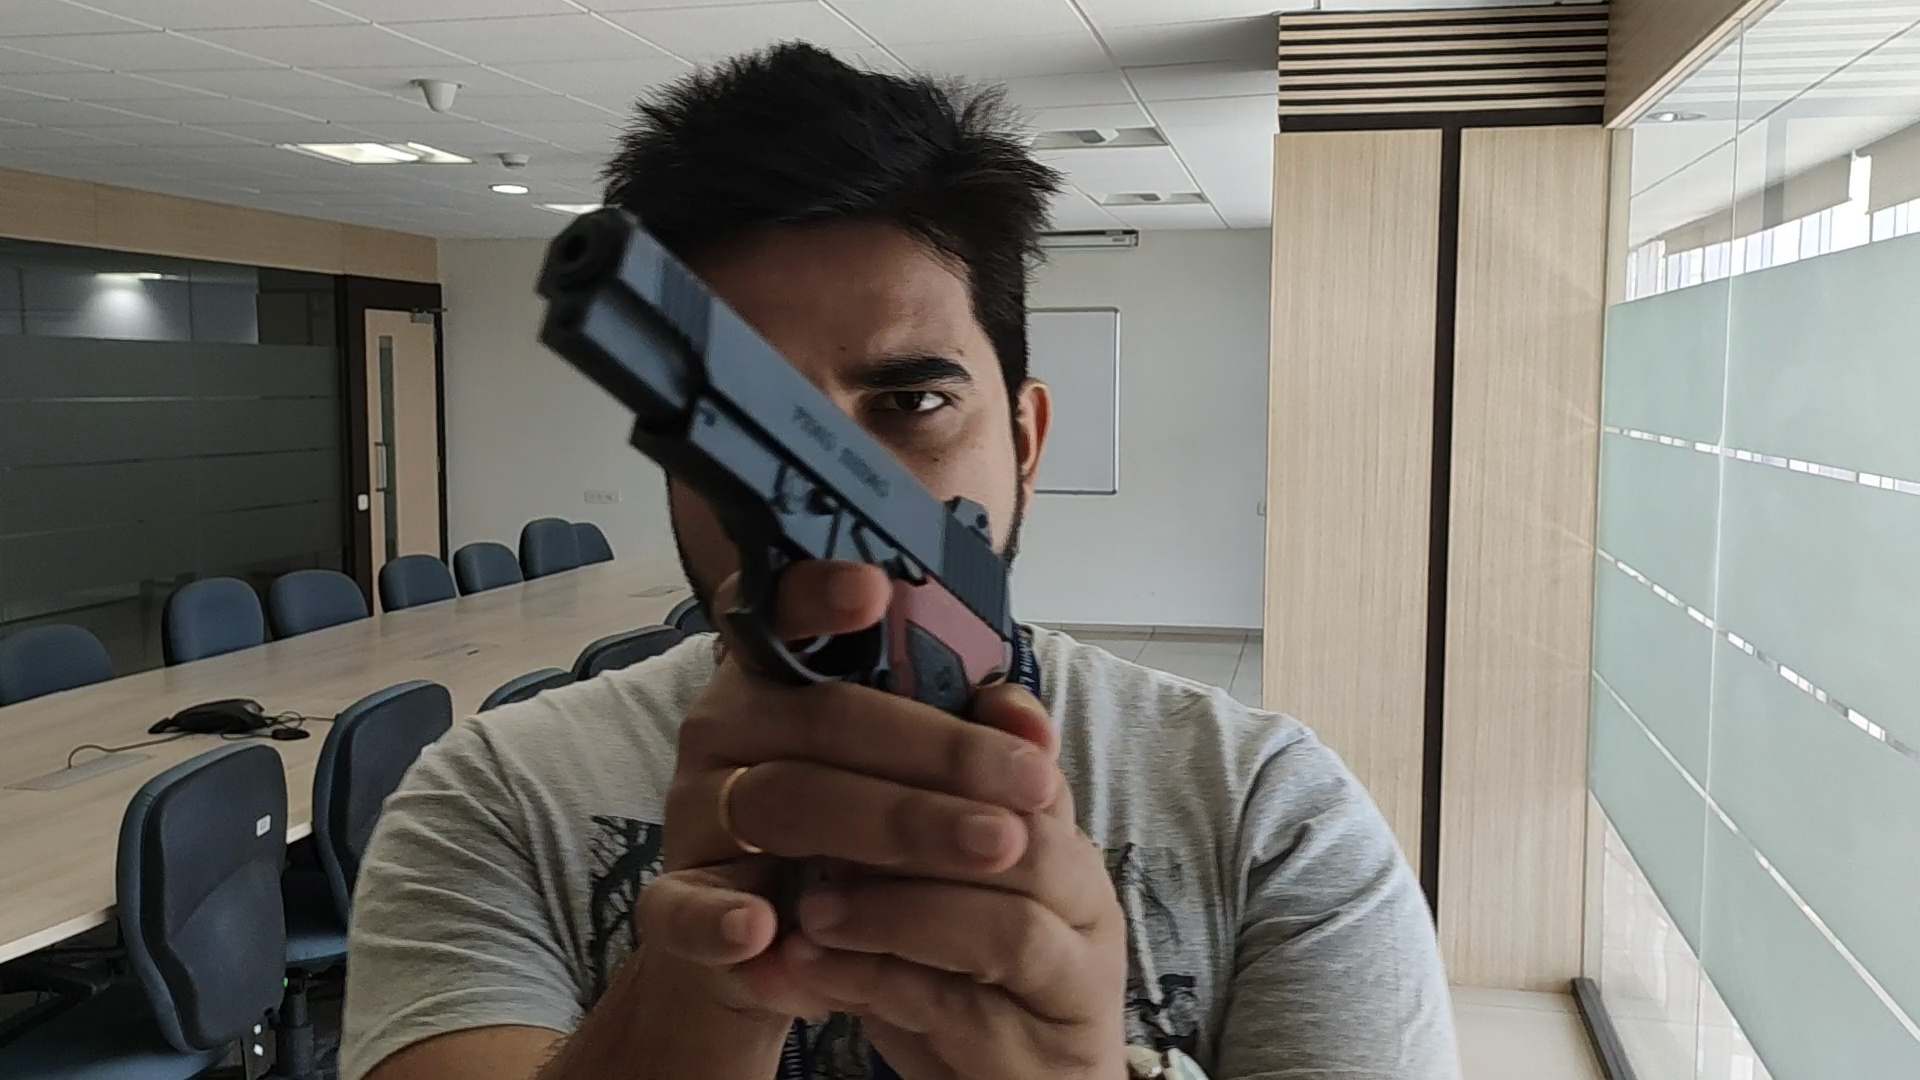gun: (538, 208, 1004, 560)
